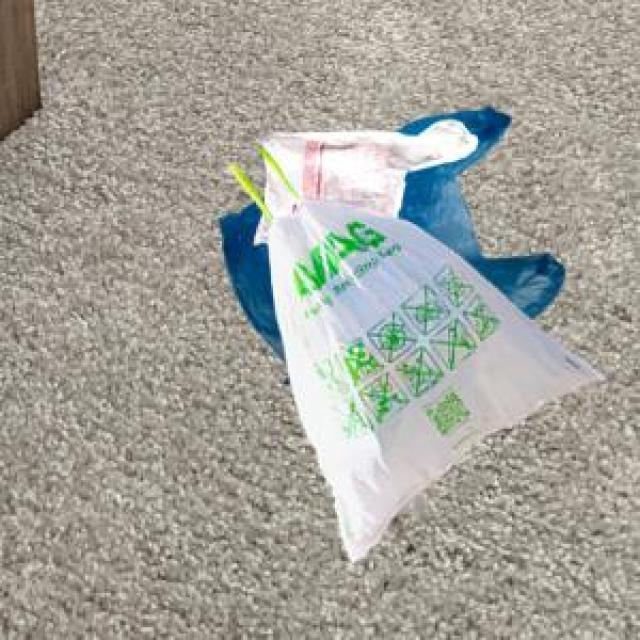waste: (220, 108, 601, 560)
